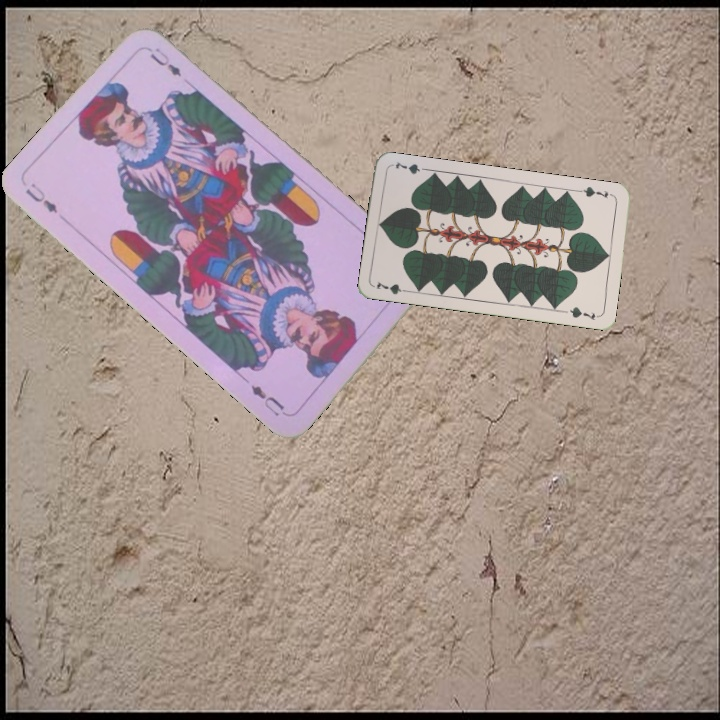EU: (21, 179, 61, 217)
G7: (372, 277, 413, 297), (575, 182, 611, 201)
